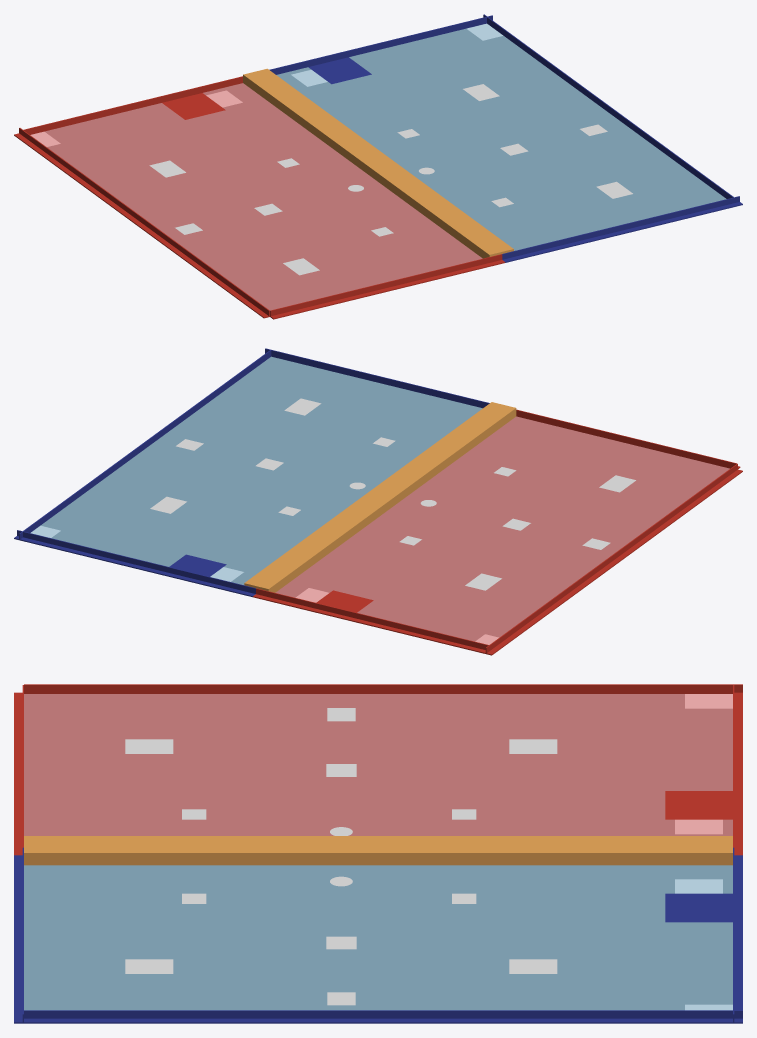
Rendered from field_base.obj.
The picture shows the model from 3 angles, top to bottom: view 1: azimuth 30°, elevation 25°; view 2: azimuth 150°, elevation 25°; view 3: azimuth 270°, elevation 25°; orthographic projection. The views are drawn at different scales.
Parts seen in each view (by area): view 1: field_base_mesh_mesh0.004_0.800000_0.494118_0.494118_0.000000_0., field_base_mesh_mesh0.004_0.521569_0.666667_0.749020_0.000000_0., field_base_mesh_mesh0.004_0.768627_0.207843_0.152941_0.000000_0., field_base_mesh_mesh0.004_0.913725_0.647059_0.329412_0.000000_0., field_base_mesh_mesh0.004_0.188235_0.231373_0.588235_0.000000_0., field_base_mesh_mesh0.004_0.901961_0.901961_0.901961_0.000000_0., field_base_mesh_mesh0.004_0.768627_0.886275_0.952941_0.000000_0., field_base_mesh_mesh0.004_0.992157_0.709804_0.709804_0.000000_0.; view 2: field_base_mesh_mesh0.004_0.800000_0.494118_0.494118_0.000000_0., field_base_mesh_mesh0.004_0.521569_0.666667_0.749020_0.000000_0., field_base_mesh_mesh0.004_0.913725_0.647059_0.329412_0.000000_0., field_base_mesh_mesh0.004_0.768627_0.207843_0.152941_0.000000_0., field_base_mesh_mesh0.004_0.188235_0.231373_0.588235_0.000000_0., field_base_mesh_mesh0.004_0.901961_0.901961_0.901961_0.000000_0., field_base_mesh_mesh0.004_0.768627_0.886275_0.952941_0.000000_0.; view 3: field_base_mesh_mesh0.004_0.521569_0.666667_0.749020_0.000000_0., field_base_mesh_mesh0.004_0.800000_0.494118_0.494118_0.000000_0., field_base_mesh_mesh0.004_0.913725_0.647059_0.329412_0.000000_0., field_base_mesh_mesh0.004_0.188235_0.231373_0.588235_0.000000_0., field_base_mesh_mesh0.004_0.768627_0.207843_0.152941_0.000000_0., field_base_mesh_mesh0.004_0.901961_0.901961_0.901961_0.000000_0., field_base_mesh_mesh0.004_0.992157_0.709804_0.709804_0.000000_0., field_base_mesh_mesh0.004_0.768627_0.886275_0.952941_0.000000_0..
Boxes of the visible parts, left/top/right/bottom form: field_base_mesh_mesh0.004_0.800000_0.494118_0.494118_0.000000_0.: left=44, top=83, right=482, bottom=310; field_base_mesh_mesh0.004_0.521569_0.666667_0.749020_0.000000_0.: left=276, top=28, right=726, bottom=250; field_base_mesh_mesh0.004_0.768627_0.207843_0.152941_0.000000_0.: left=14, top=76, right=505, bottom=319; field_base_mesh_mesh0.004_0.913725_0.647059_0.329412_0.000000_0.: left=243, top=68, right=513, bottom=258; field_base_mesh_mesh0.004_0.188235_0.231373_0.588235_0.000000_0.: left=269, top=14, right=742, bottom=262; field_base_mesh_mesh0.004_0.901961_0.901961_0.901961_0.000000_0.: left=149, top=84, right=632, bottom=275; field_base_mesh_mesh0.004_0.768627_0.886275_0.952941_0.000000_0.: left=291, top=23, right=503, bottom=86; field_base_mesh_mesh0.004_0.992157_0.709804_0.709804_0.000000_0.: left=30, top=90, right=242, bottom=146; field_base_mesh_mesh0.004_0.800000_0.494118_0.494118_0.000000_0.: left=275, top=416, right=729, bottom=641; field_base_mesh_mesh0.004_0.521569_0.666667_0.749020_0.000000_0.: left=41, top=356, right=482, bottom=584; field_base_mesh_mesh0.004_0.913725_0.647059_0.329412_0.000000_0.: left=244, top=402, right=516, bottom=592; field_base_mesh_mesh0.004_0.768627_0.207843_0.152941_0.000000_0.: left=253, top=409, right=742, bottom=655; field_base_mesh_mesh0.004_0.188235_0.231373_0.588235_0.000000_0.: left=14, top=348, right=489, bottom=597; field_base_mesh_mesh0.004_0.901961_0.901961_0.901961_0.000000_0.: left=150, top=398, right=635, bottom=590; field_base_mesh_mesh0.004_0.768627_0.886275_0.952941_0.000000_0.: left=30, top=525, right=243, bottom=581; field_base_mesh_mesh0.004_0.521569_0.666667_0.749020_0.000000_0.: left=24, top=865, right=732, bottom=1010; field_base_mesh_mesh0.004_0.800000_0.494118_0.494118_0.000000_0.: left=24, top=694, right=732, bottom=835; field_base_mesh_mesh0.004_0.913725_0.647059_0.329412_0.000000_0.: left=24, top=836, right=732, bottom=865; field_base_mesh_mesh0.004_0.188235_0.231373_0.588235_0.000000_0.: left=14, top=847, right=742, bottom=1023; field_base_mesh_mesh0.004_0.768627_0.207843_0.152941_0.000000_0.: left=14, top=684, right=742, bottom=855; field_base_mesh_mesh0.004_0.901961_0.901961_0.901961_0.000000_0.: left=125, top=708, right=557, bottom=1005; field_base_mesh_mesh0.004_0.992157_0.709804_0.709804_0.000000_0.: left=675, top=694, right=732, bottom=834; field_base_mesh_mesh0.004_0.768627_0.886275_0.952941_0.000000_0.: left=675, top=879, right=732, bottom=1010.
Size of the model in its own units: 11.7 by 0.2 by 10.8.
